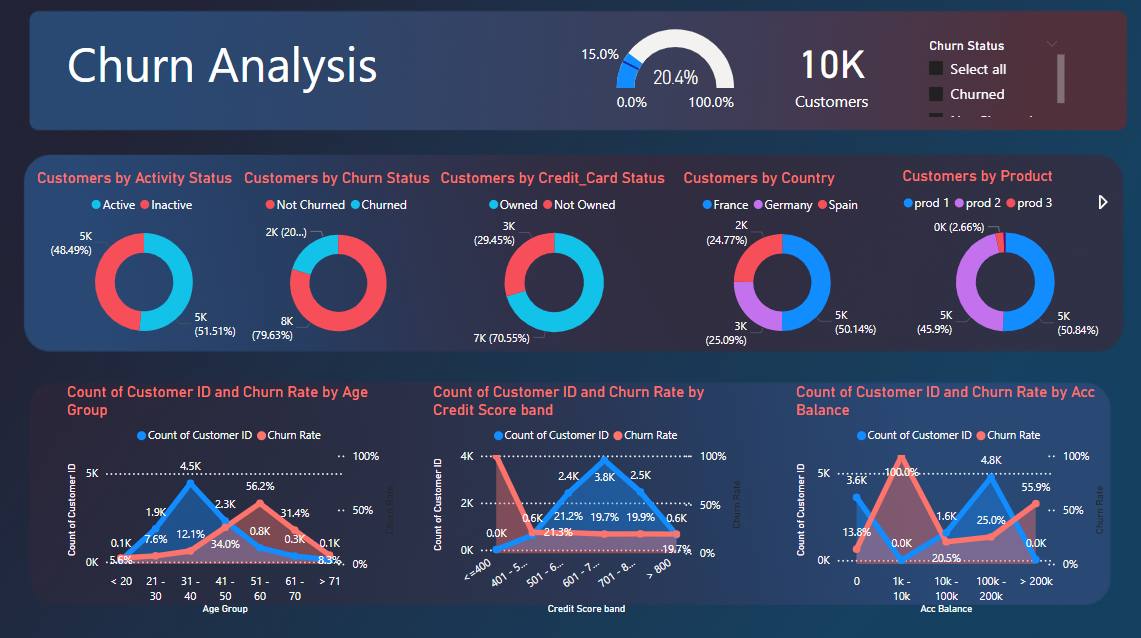

Layout of this report page (visuals, bound fields, positions):
{"tool":"powerbi","page":{"name":"Page 1","canvas":[1280,720],"ordinal":0},"visuals":[{"type":"cardVisual","fields":{"Data":["Customer Data.Customers"]},"box":[835.1,30.2,189.3,112.9],"z":0},{"type":"donutChart","fields":{"Y":["Customer Data.Customers"],"Category":["Customer Data.Credit_Card"]},"box":[490,189,262,204],"z":1000},{"type":"donutChart","fields":{"Y":["Customer Data.Customers"],"Category":["Customer Data.Churn Status"]},"box":[271,188,219,205],"z":2000},{"type":"donutChart","fields":{"Y":["Customer Data.Customers"],"Category":["Customer Data.Activity Status"]},"box":[41,188,247,203],"z":3000},{"type":"donutChart","fields":{"Y":["Customer Data.Customers"],"Category":["Customer Data.Country"]},"box":[760,188,229,204],"z":4000},{"type":"donutChart","fields":{"Y":["Customer Data.Customers"],"Category":["Customer Data.Product"]},"box":[1003,187,238,206],"z":5000},{"type":"areaChart","fields":{"Category":["Age Groups.Age Group"],"Y":["CountNonNull(Customer Data.Customer ID)"],"Y2":["Customer Data.Churn Rate"]},"box":[74.8,426.3,373.8,260.9],"z":6000},{"type":"areaChart","fields":{"Category":["Credit Score Groups.Credit Score band"],"Y":["CountNonNull(Customer Data.Customer ID)"],"Y2":["Customer Data.Churn Rate"]},"box":[482,426.3,353.1,260.9],"z":7000},{"type":"areaChart","fields":{"Category":["Acc Balance Groups.Acc Balance"],"Y":["CountNonNull(Customer Data.Customer ID)"],"Y2":["Customer Data.Churn Rate"]},"box":[884.4,426.3,353.1,260.9],"z":8000},{"type":"gauge","fields":{"Y":["Customer Data.Churn Rate"],"MaxValue":["Max(Customer Data.Max Churn Rate)1"],"MinValue":["Min(Customer Data.Min churn rate)"],"TargetValue":["Avg(Customer Data.Target)"]},"box":[631.5,28.6,203.6,106.6],"z":10000},{"type":"textbox","box":[74.8,30.2,373.8,84.3],"z":11000},{"type":"slicer","fields":{"Values":["Customer Data.Churn Status"]},"box":[1025,38.3,168.3,96.7],"z":11001}]}

Visuals, with their boxes in screenshot pixels (x1, y1, x2, y2), scaled from the page's 1280x720 canvas onto the 1141x638 screenshot:
cardVisual - Customer Data.Customers: 744:27:913:127
donutChart - Customer Data.Customers x Customer Data.Credit_Card: 437:167:670:348
donutChart - Customer Data.Customers x Customer Data.Churn Status: 242:167:437:348
donutChart - Customer Data.Customers x Customer Data.Activity Status: 37:167:257:346
donutChart - Customer Data.Customers x Customer Data.Country: 677:167:882:347
donutChart - Customer Data.Customers x Customer Data.Product: 894:166:1106:348
areaChart - Age Groups.Age Group x CountNonNull(Customer Data.Customer ID): 67:378:400:609
areaChart - Credit Score Groups.Credit Score band x CountNonNull(Customer Data.Customer ID): 430:378:744:609
areaChart - Acc Balance Groups.Acc Balance x CountNonNull(Customer Data.Customer ID): 788:378:1103:609
gauge - Customer Data.Churn Rate x Max(Customer Data.Max Churn Rate)1: 563:25:744:120
textbox: 67:27:400:101
slicer - Customer Data.Churn Status: 914:34:1064:120
